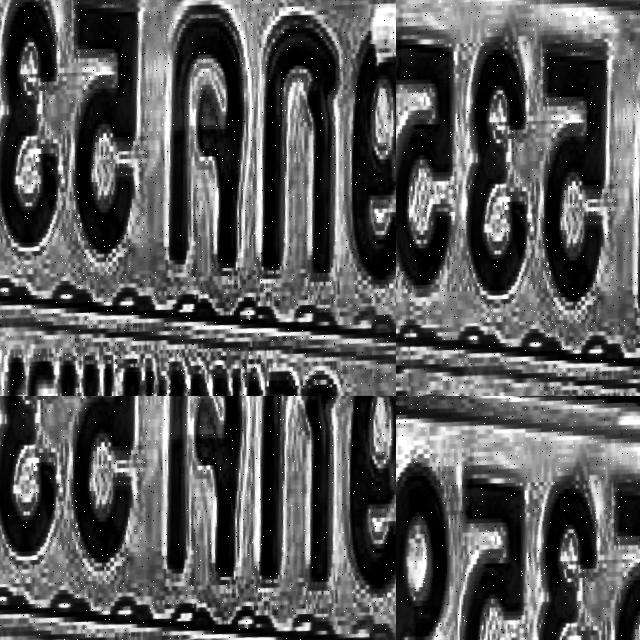license-plate: (0, 0, 396, 396), (396, 396, 640, 640)
